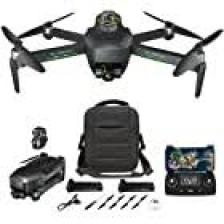drone: (0, 0, 224, 103)
